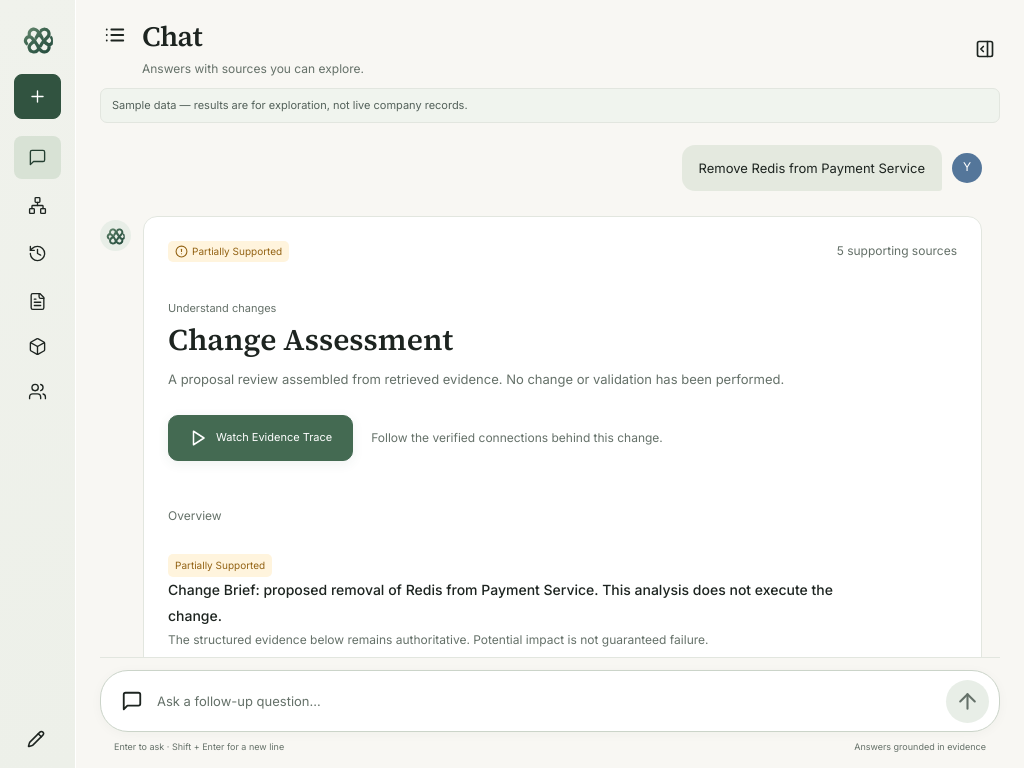
Test: Trace Mode in persistent conversations › allows opening and closing from the graph workspace without covering the brief
Expected: the button named "New Chat" is enabled, [14,74,61,119]
Click the button named "Knowledge Graph" at (38, 206), box [14,184,61,227]
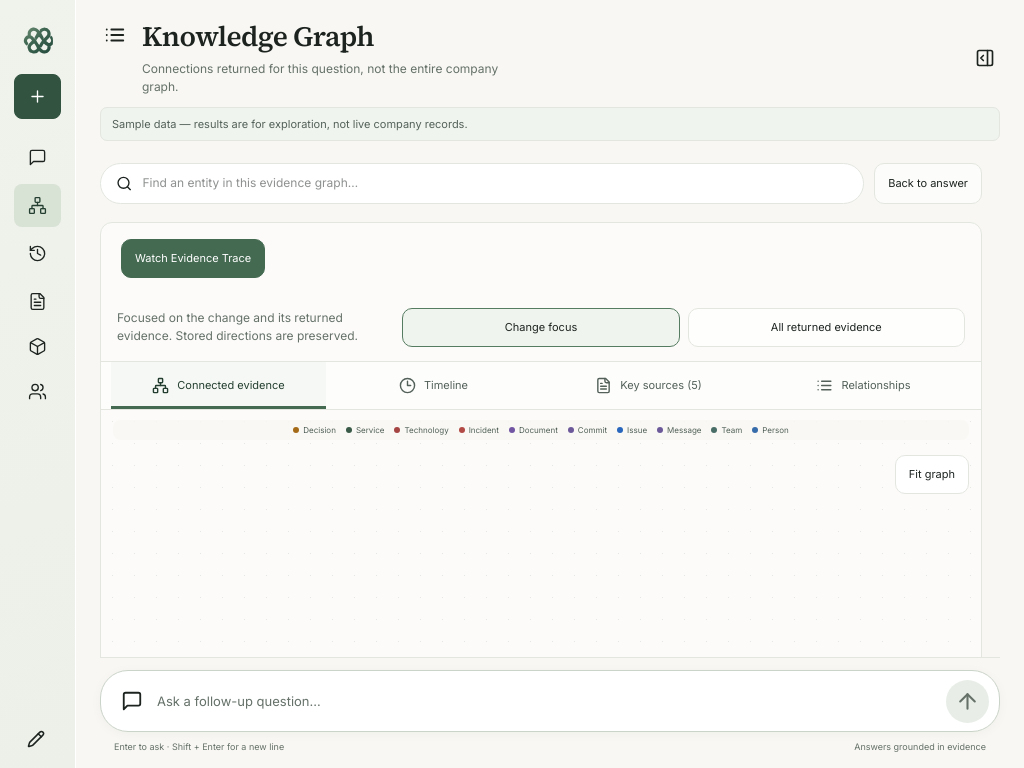
Click the button "Watch Evidence Trace" at (193, 258), box [121,239,265,278]
(page scrolled)
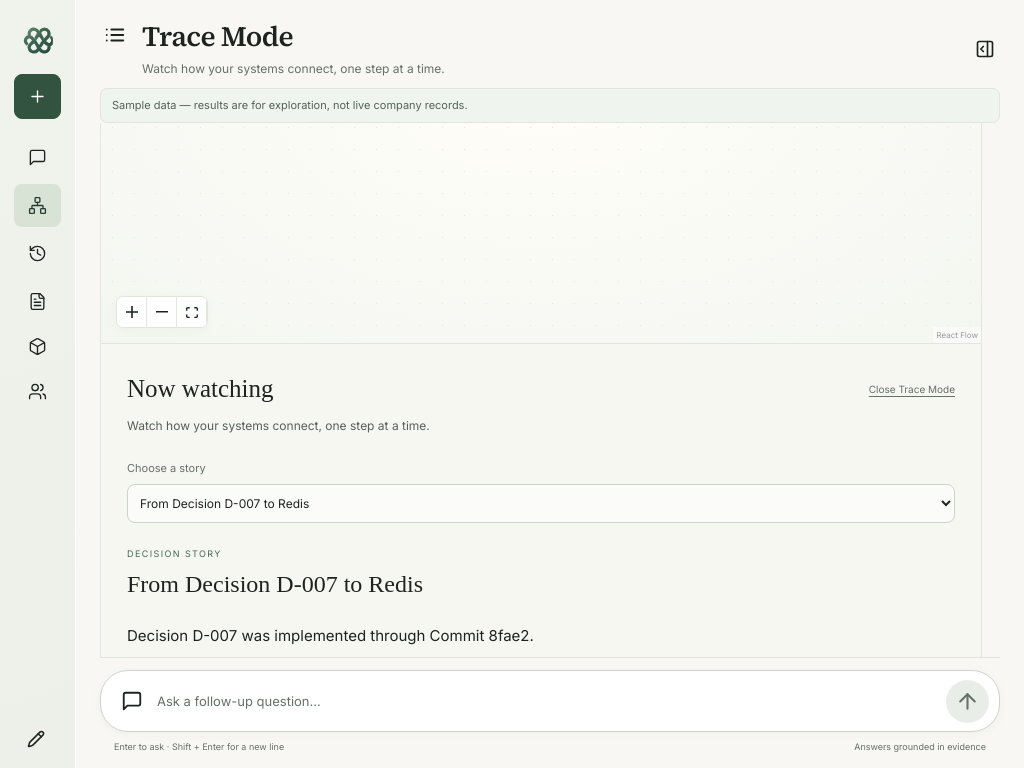
Click the button "Close Trace Mode" at (908, 390), box [861,374,955,405]
(page scrolled)
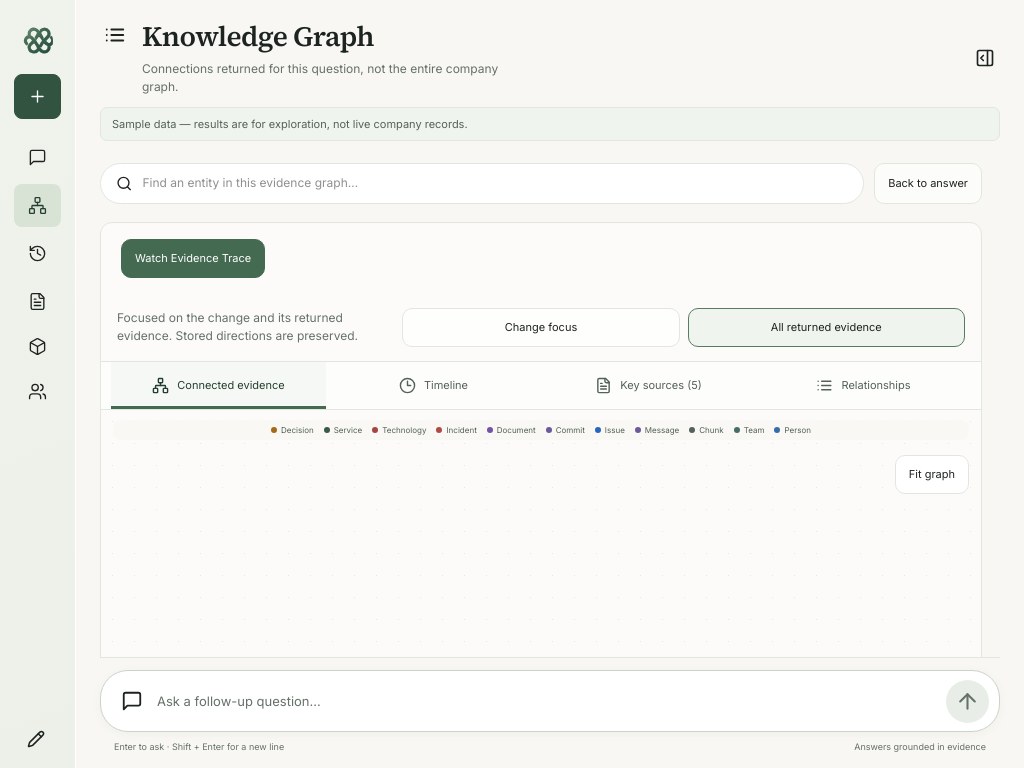
Result: the heading labelled "Trace Mode" is gone
Click the button "Back to answer" at (928, 184), box [874,163,982,204]
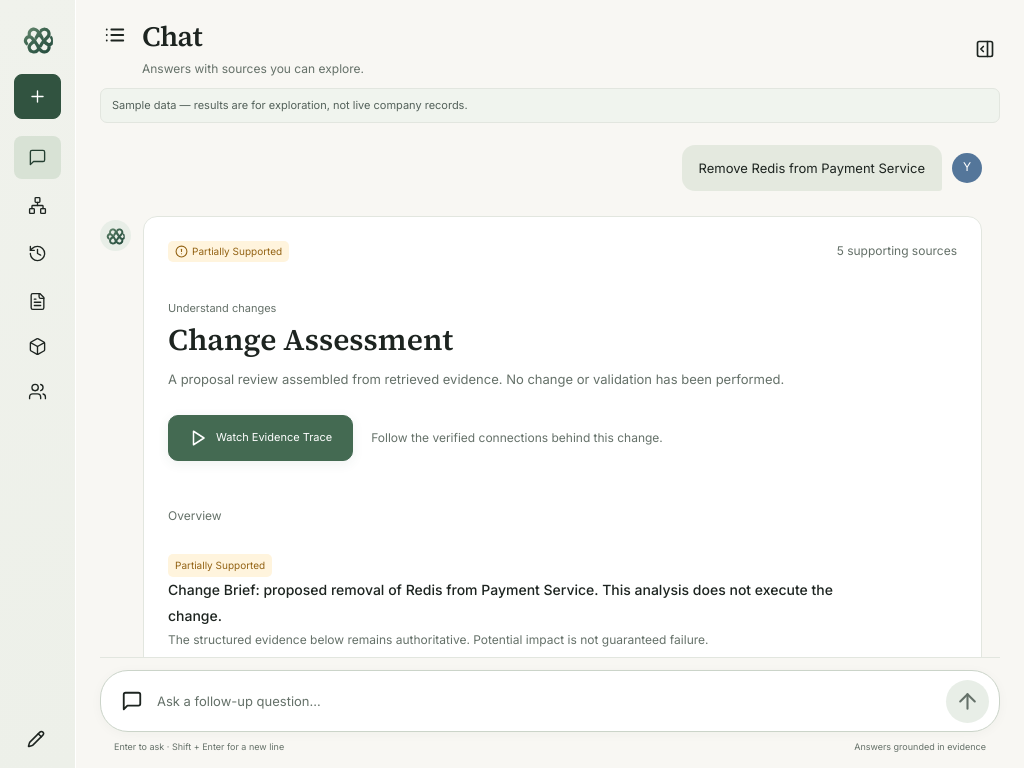
Result: the heading "Change Assessment" is shown at [168,320,453,360]
